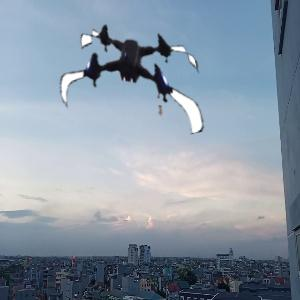drone: (56, 3, 203, 150)
